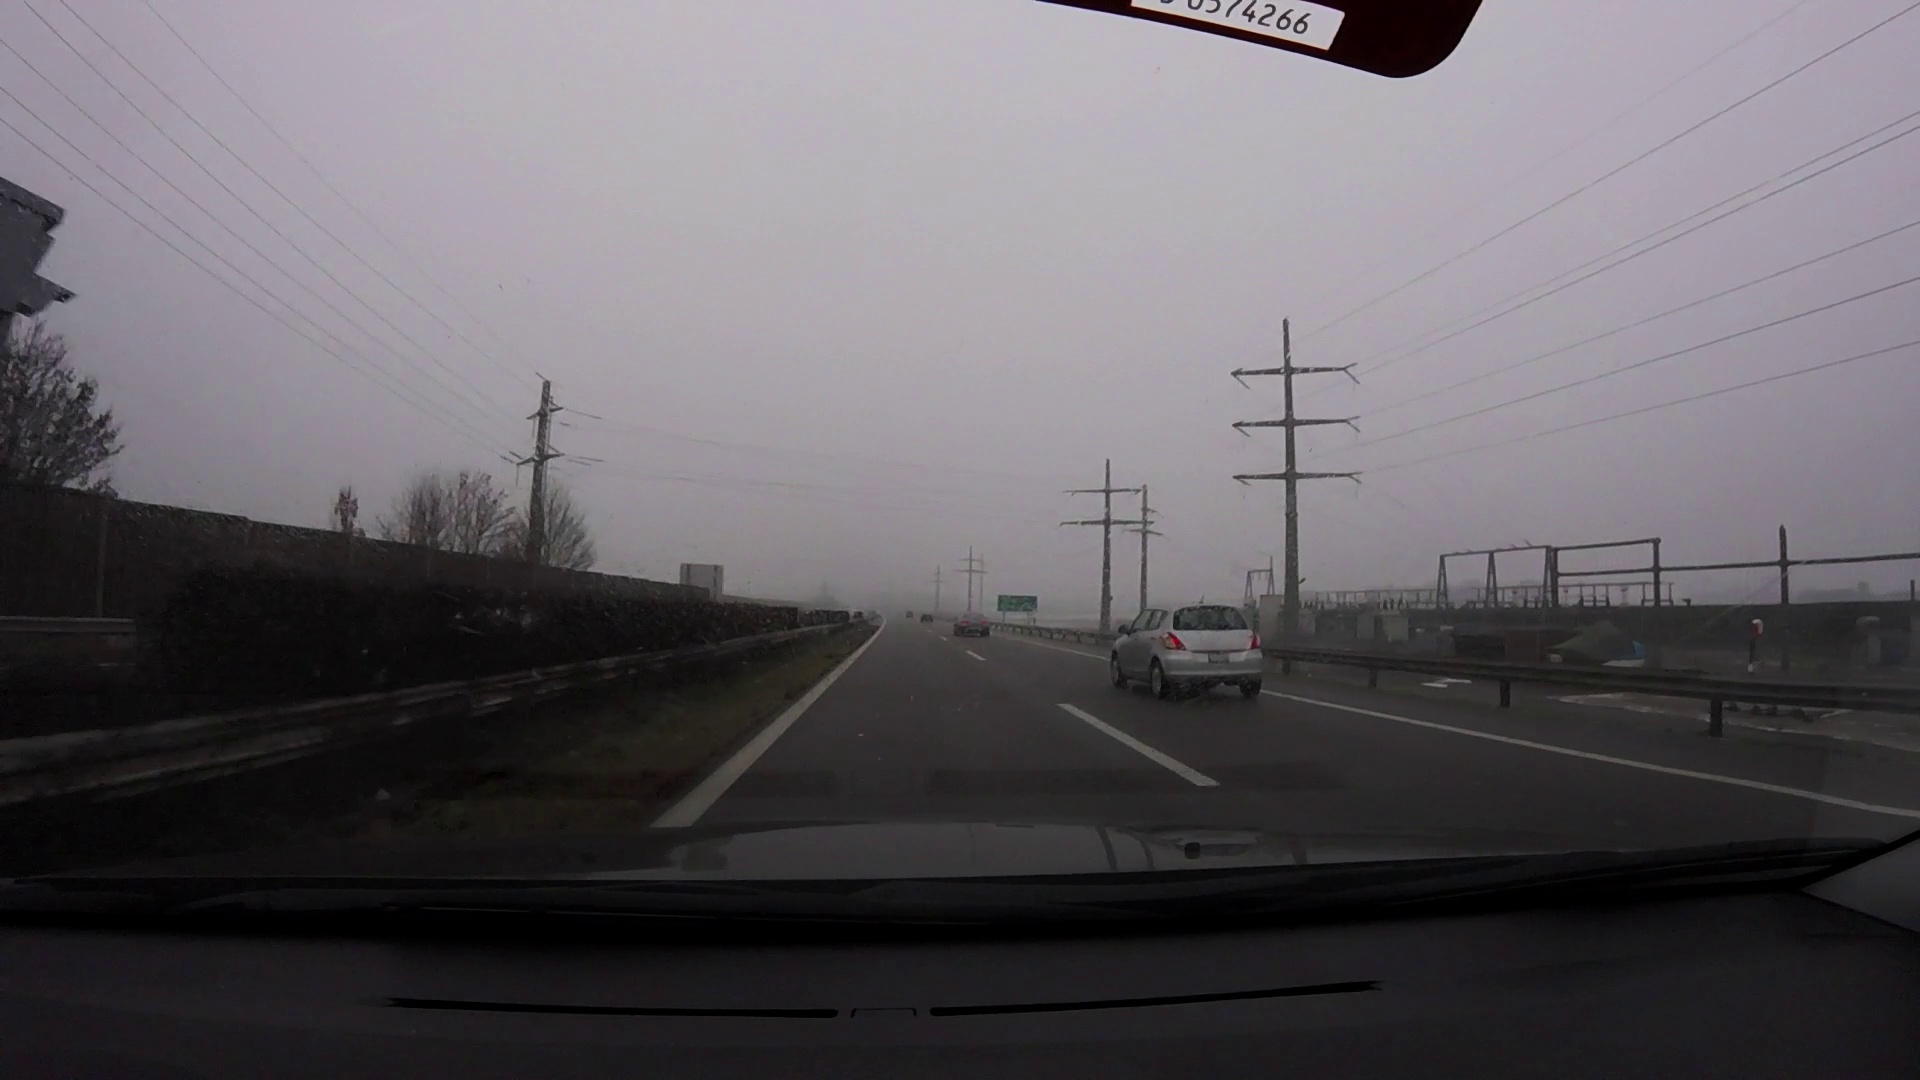radar: (1, 175, 82, 365)
